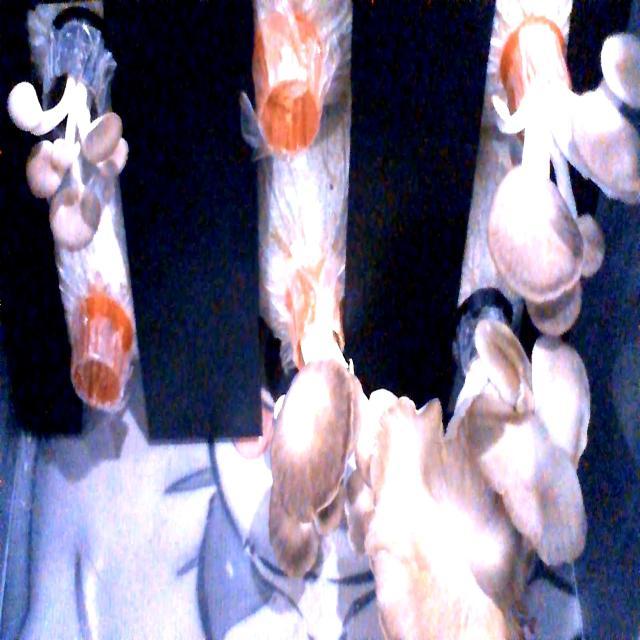big: (354, 332, 618, 627), (465, 24, 640, 334), (242, 350, 455, 587)
nfound: (249, 46, 359, 180), (68, 310, 143, 448)
small: (3, 67, 148, 268)
